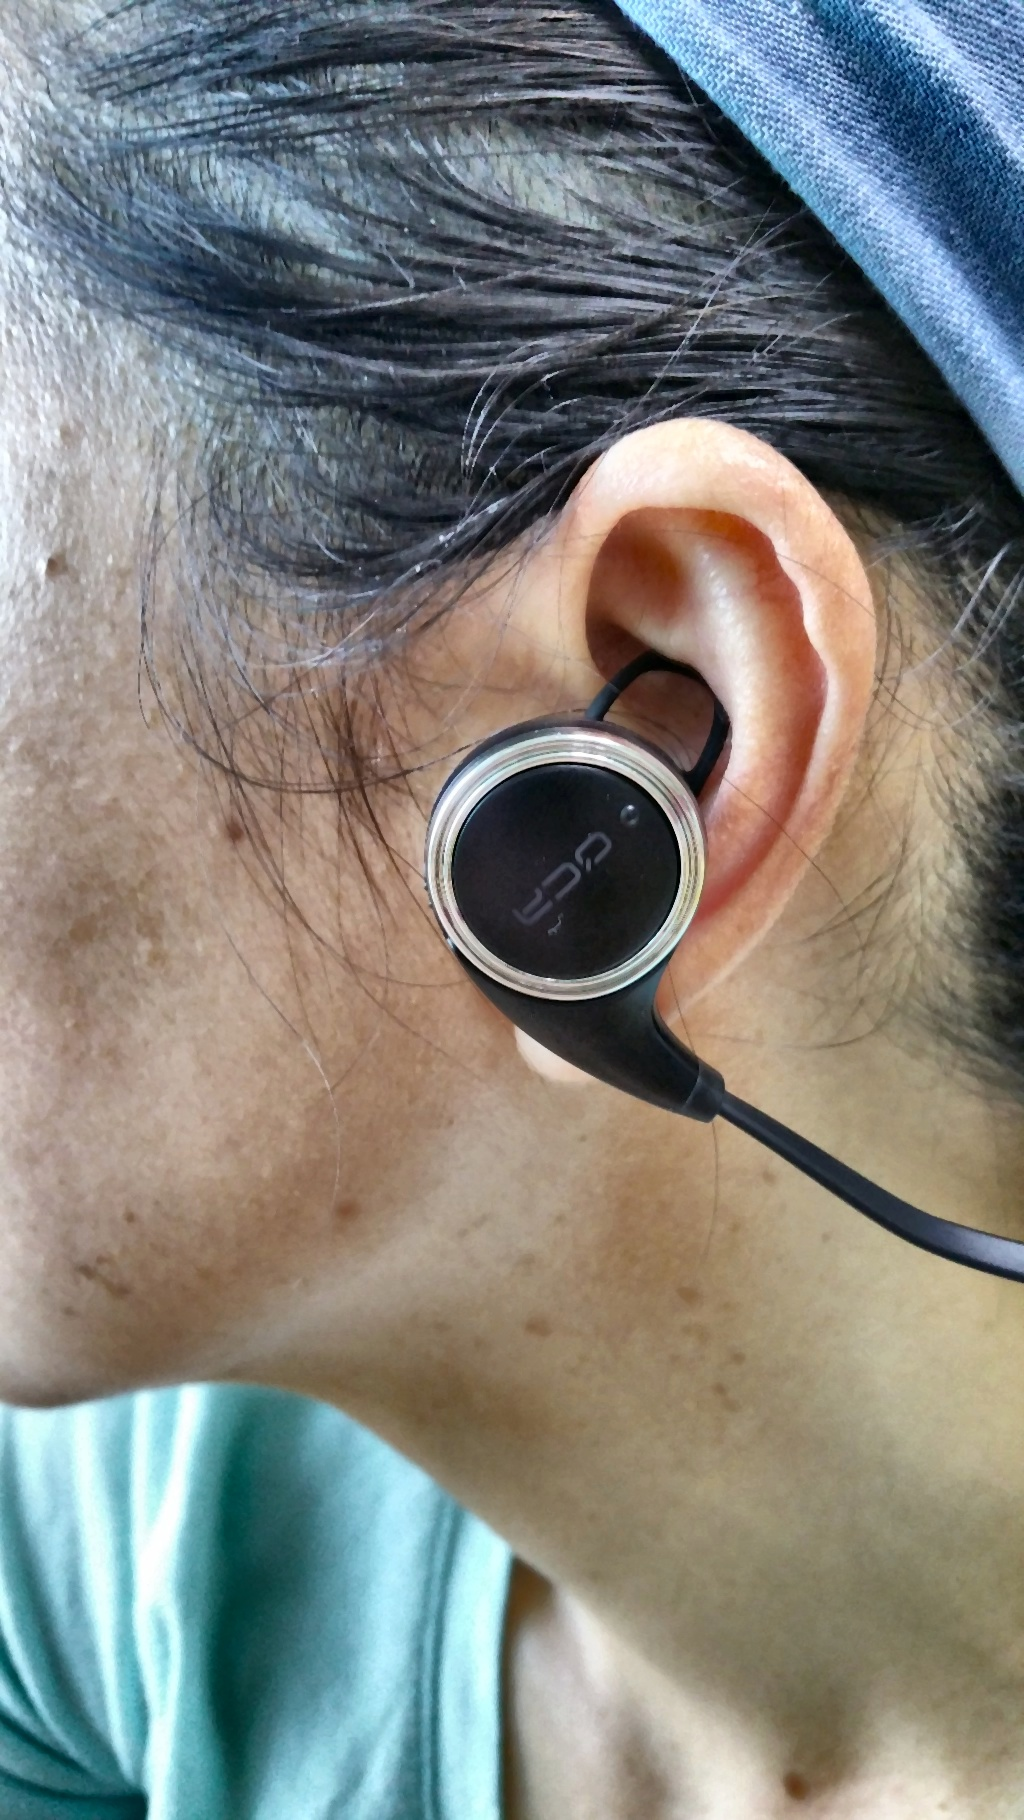earphone: (425, 417, 876, 1090)
